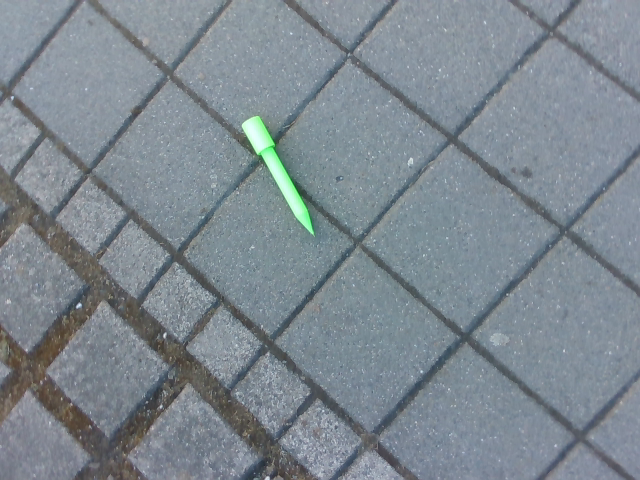Probe: (238, 112, 318, 239)
